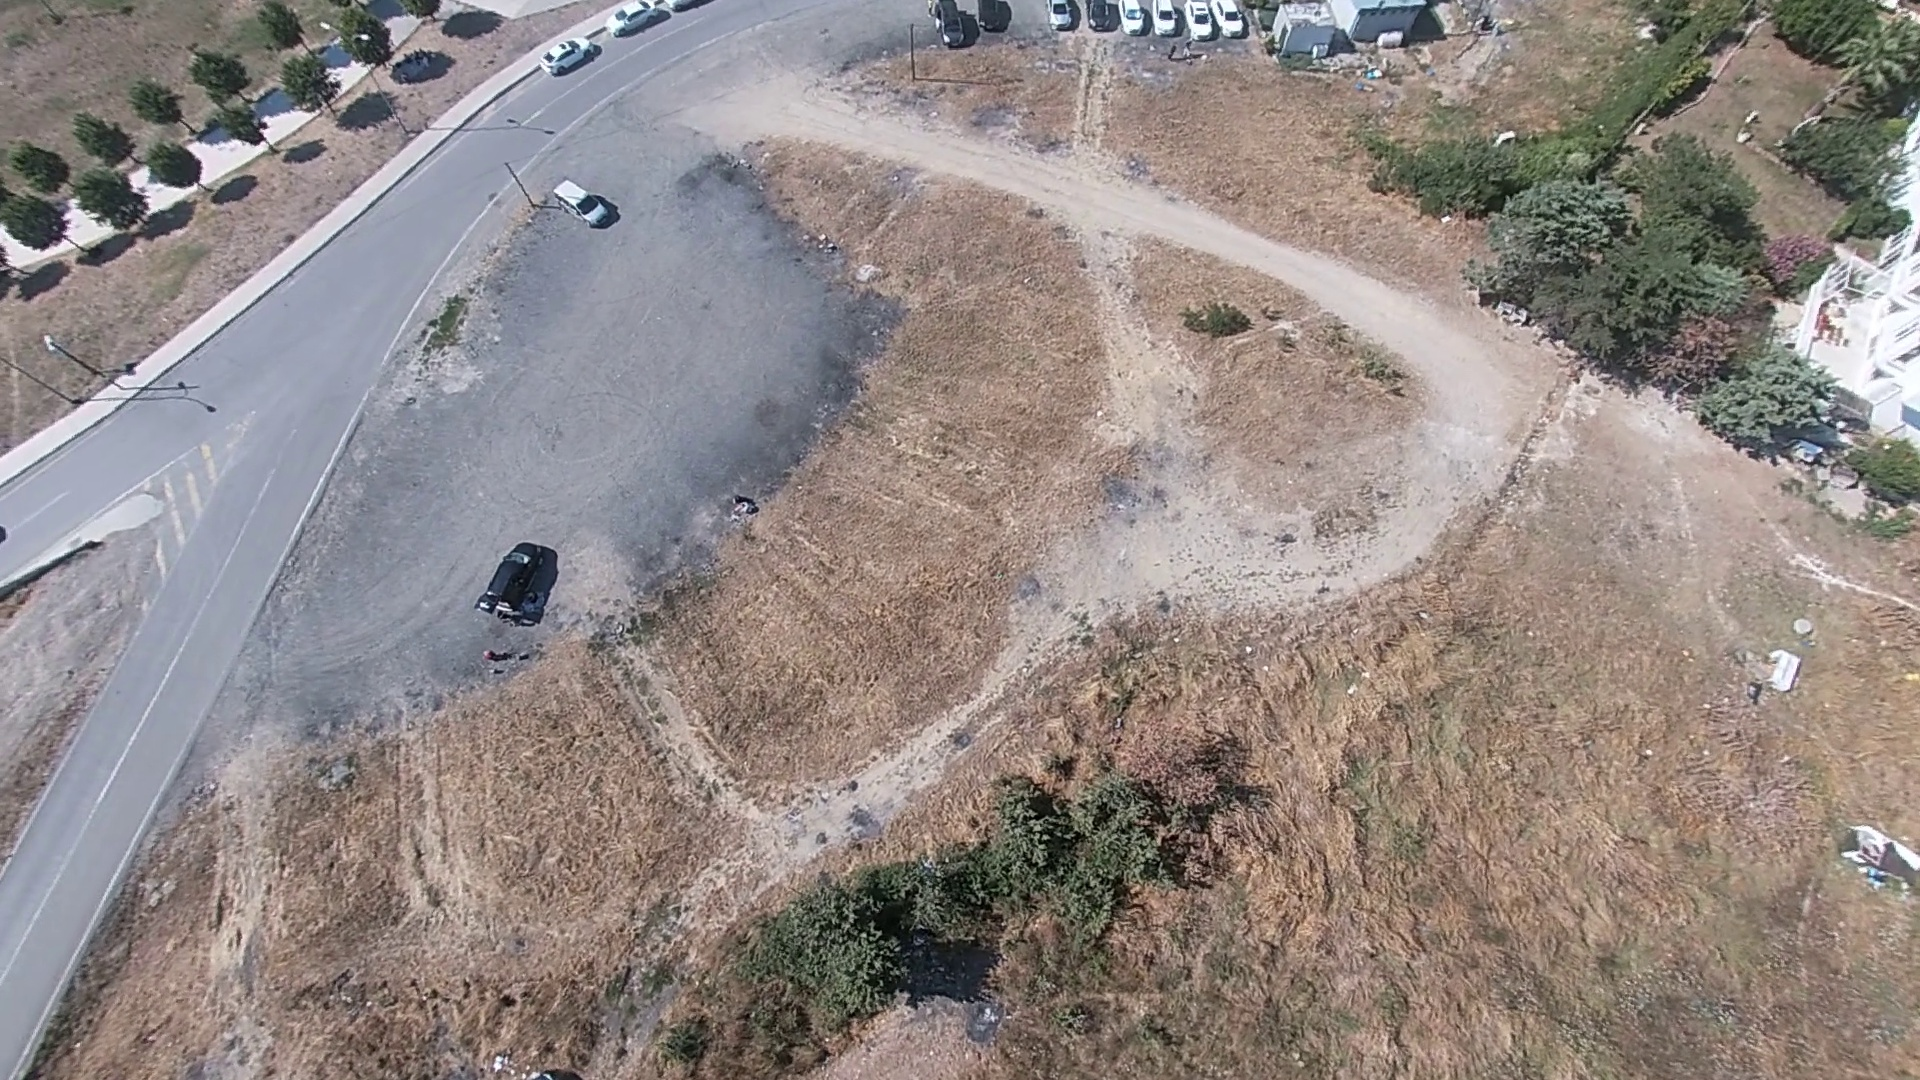arac: (469, 539, 553, 628), (553, 178, 612, 224), (542, 37, 597, 76), (608, 0, 663, 37)
